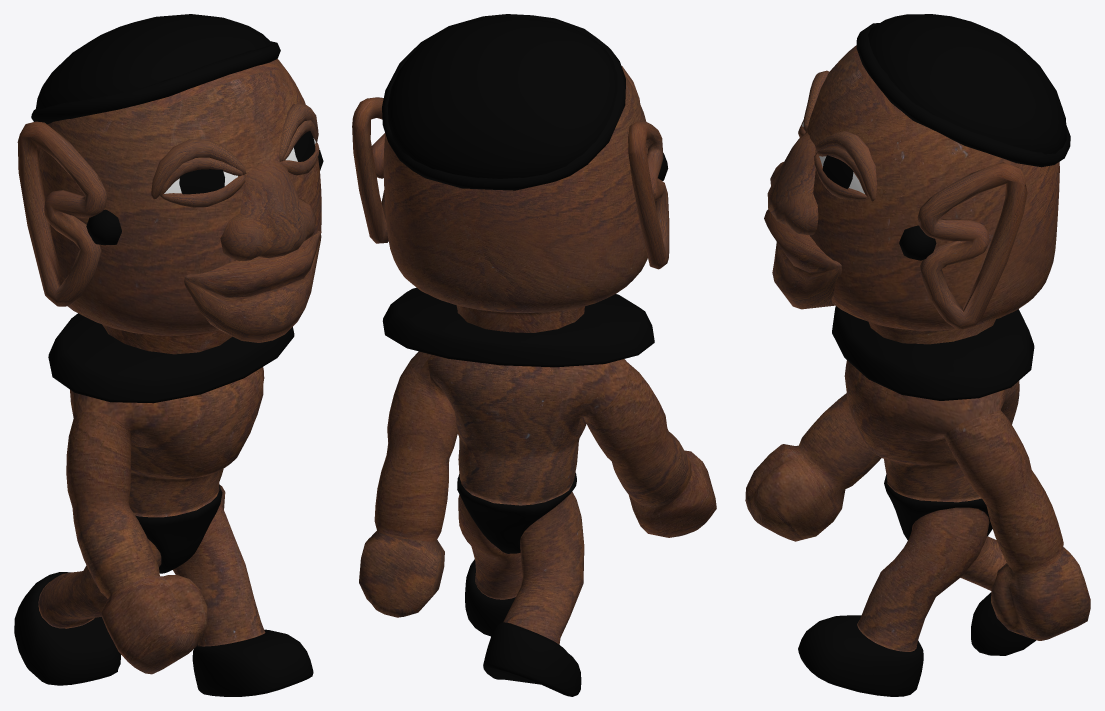
The model's file is Labrum_Nomoli.opt.glb.
The picture shows the model from 3 angles, left to right: view 1: azimuth 30°, elevation 25°; view 2: azimuth 150°, elevation 25°; view 3: azimuth 270°, elevation 25°; orthographic projection. The views are drawn at different scales.
Visible parts, largest first — view 1: Cube.011; view 2: Cube.011; view 3: Cube.011.
Boxes of the visible parts, x1=… form: Cube.011: x1=14, y1=14, x2=323, y2=696; Cube.011: x1=352, y1=14, x2=716, y2=696; Cube.011: x1=745, y1=14, x2=1090, y2=696.
Size of the model in its own units: 1.26 by 2.78 by 1.36.
Materials: 6 (2 with a texture image).
